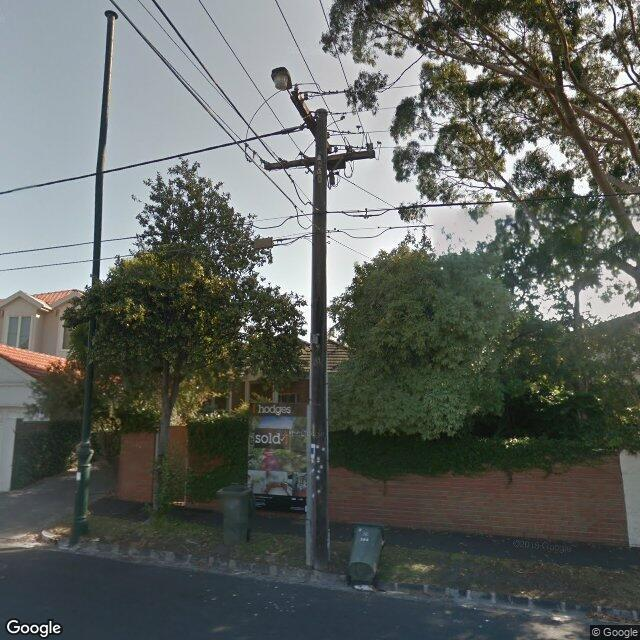crossarm: (290, 90, 332, 154), (264, 150, 375, 170)
steel-pole: (67, 10, 116, 548)
streetlight: (271, 67, 292, 96)
timber-pole: (305, 108, 329, 570)
